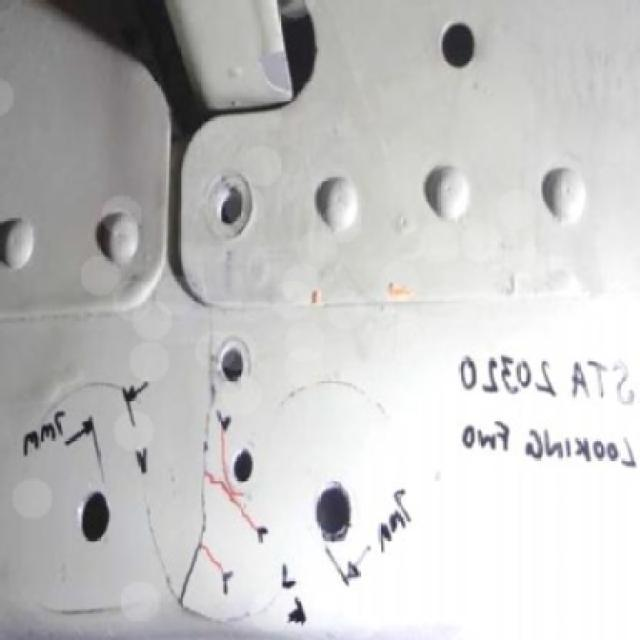crack: (180, 312, 215, 601)
